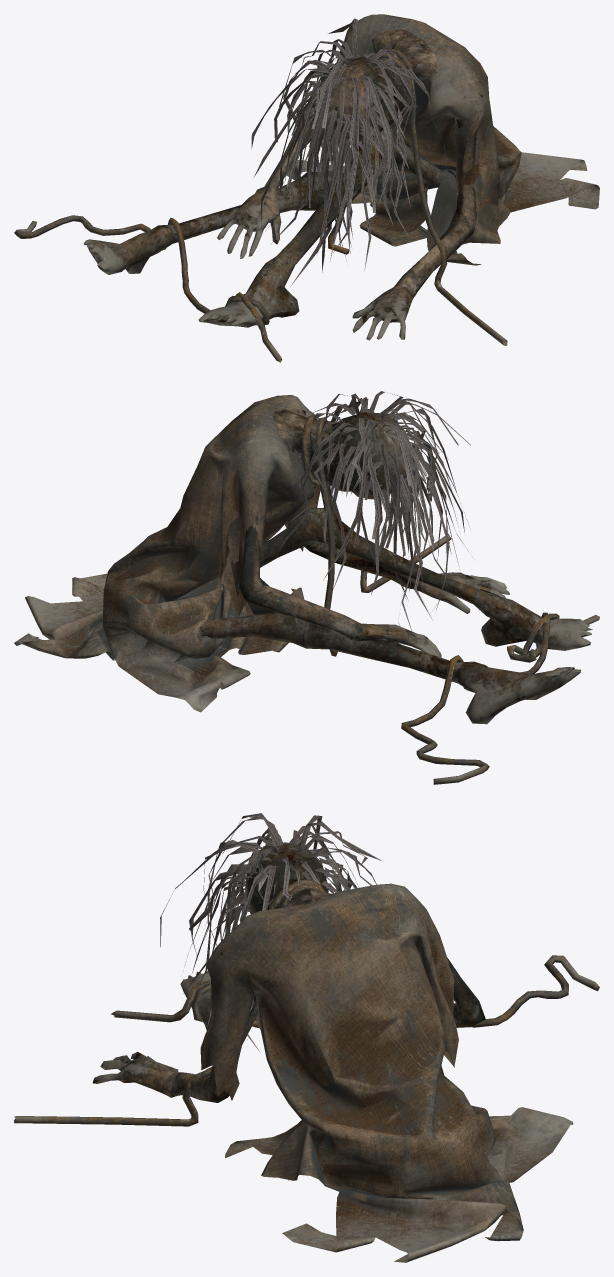
Rendered from P_Deceased02.fbx.
The picture shows the model from 3 angles, top to bottom: view 1: azimuth 30°, elevation 25°; view 2: azimuth 150°, elevation 25°; view 3: azimuth 270°, elevation 25°; orthographic projection. The views are drawn at different scales.
Visible parts, largest first — view 1: P_Deceased02; view 2: P_Deceased02; view 3: P_Deceased02.
Part boxes in pixels (x1,y1,x2,y2): P_Deceased02: [14, 14, 599, 362]; P_Deceased02: [14, 391, 599, 784]; P_Deceased02: [14, 813, 599, 1262].
Bounding box in the file's own units: 182 × 84.64 × 151.
